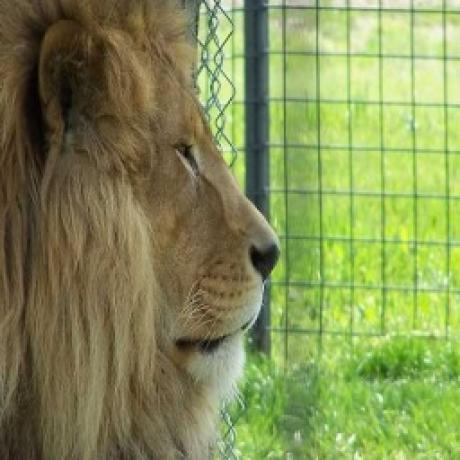Lion: (0, 0, 284, 460)
